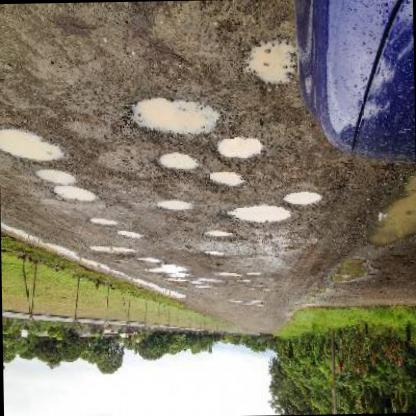pothole: (127, 96, 220, 141), (242, 37, 298, 88), (0, 127, 63, 164), (214, 136, 262, 164), (222, 206, 290, 224), (51, 184, 98, 206), (158, 152, 198, 174), (206, 168, 245, 190), (32, 167, 74, 186), (280, 191, 322, 208), (90, 246, 134, 260), (156, 198, 192, 213), (145, 265, 188, 277), (201, 230, 238, 242), (115, 232, 144, 242), (88, 218, 116, 228), (135, 257, 162, 266), (202, 250, 226, 260)
